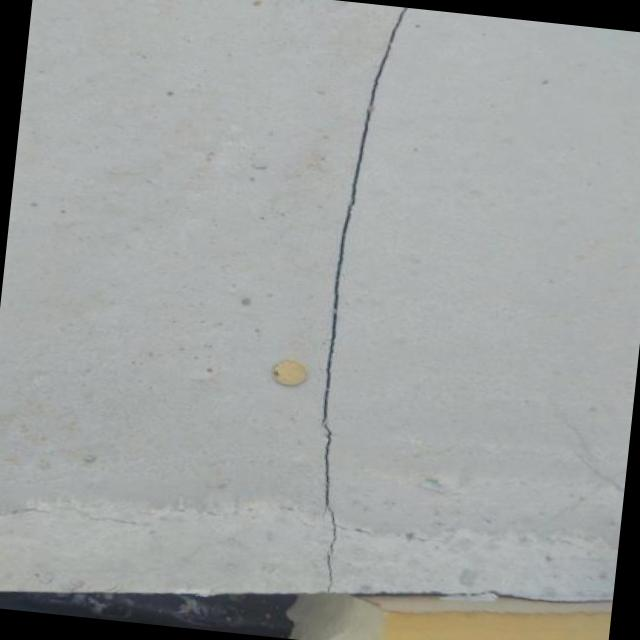crack: (318, 9, 409, 590)
